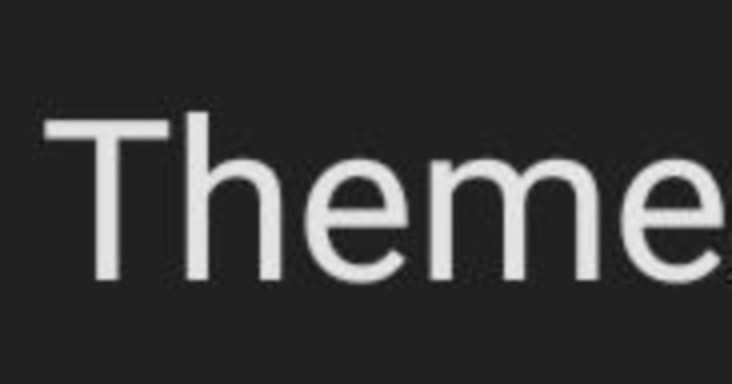TextView: (1, 1, 731, 383)
